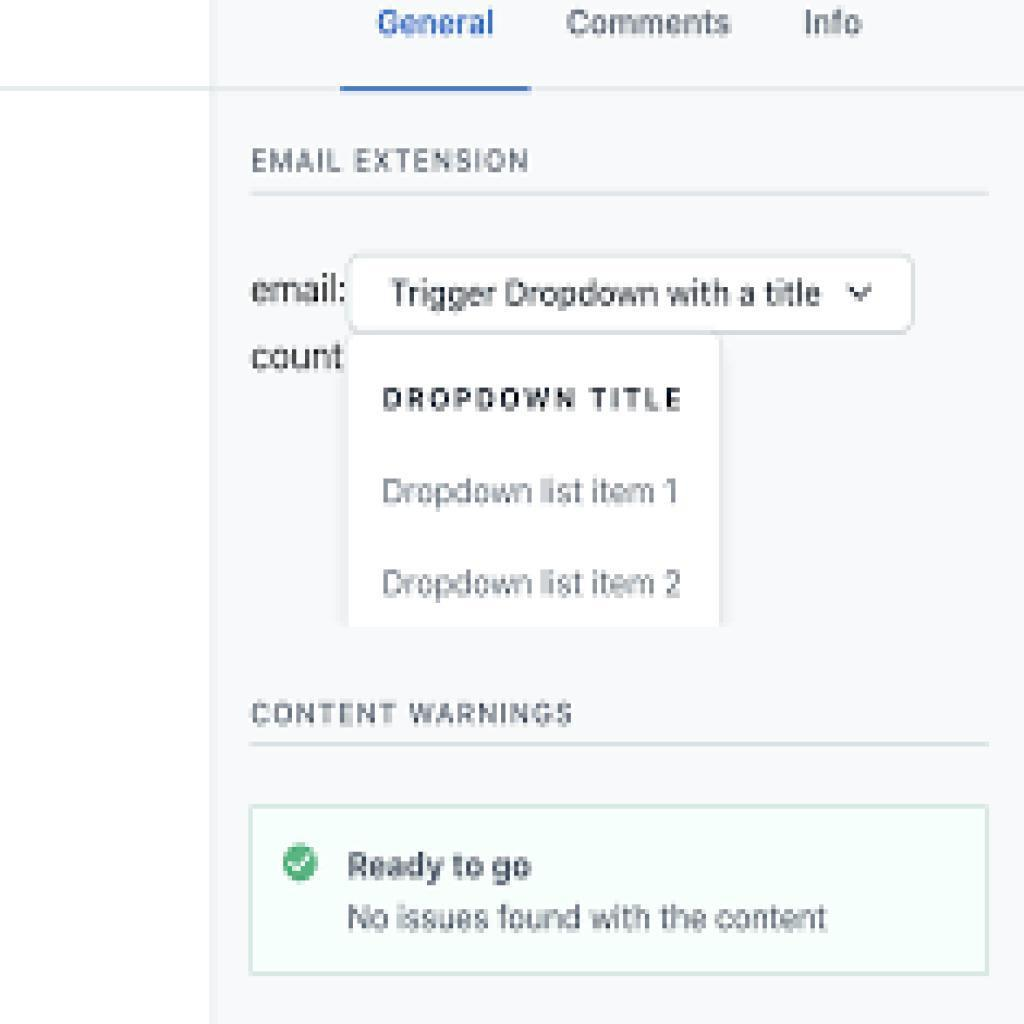dropdown: (347, 253, 912, 332)
